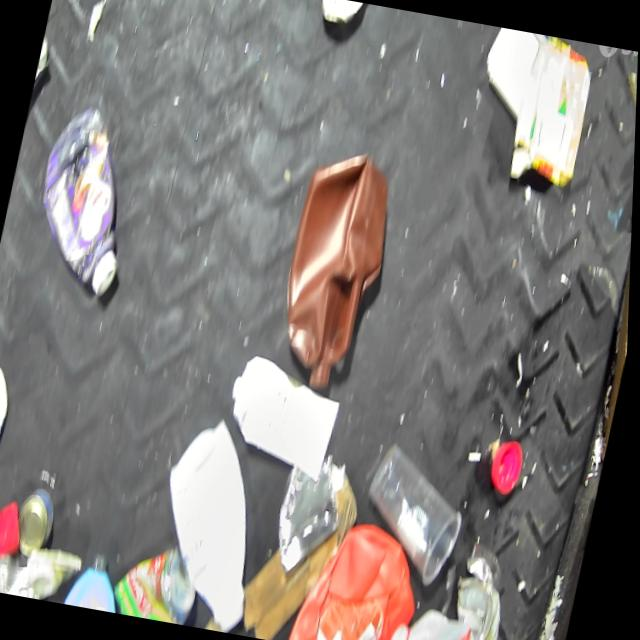can: (114, 537, 211, 626), (8, 475, 66, 571)
milk_jug: (388, 595, 498, 640)
non_white_jug: (266, 141, 406, 405), (287, 507, 439, 640), (64, 550, 135, 614)
